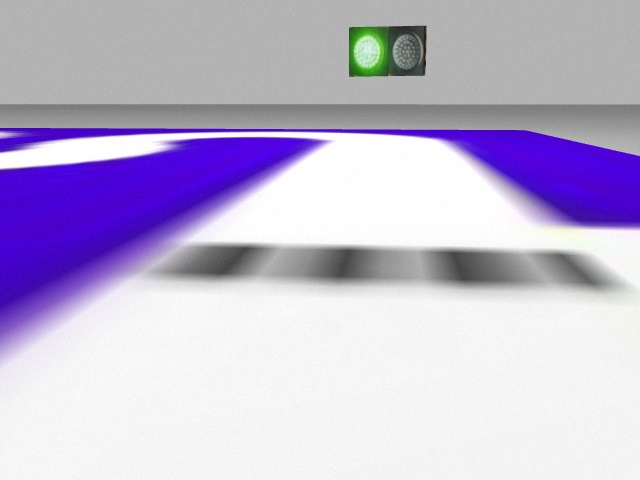green: (350, 26, 388, 74)
